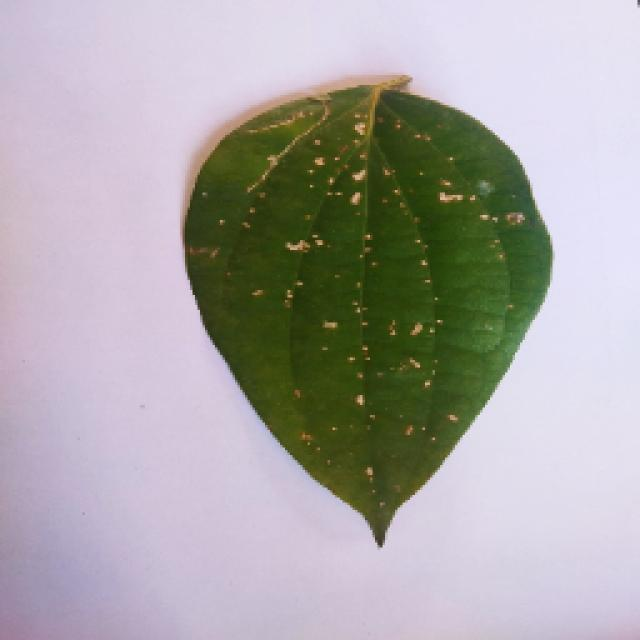pollu-disease: (160, 72, 590, 550)
